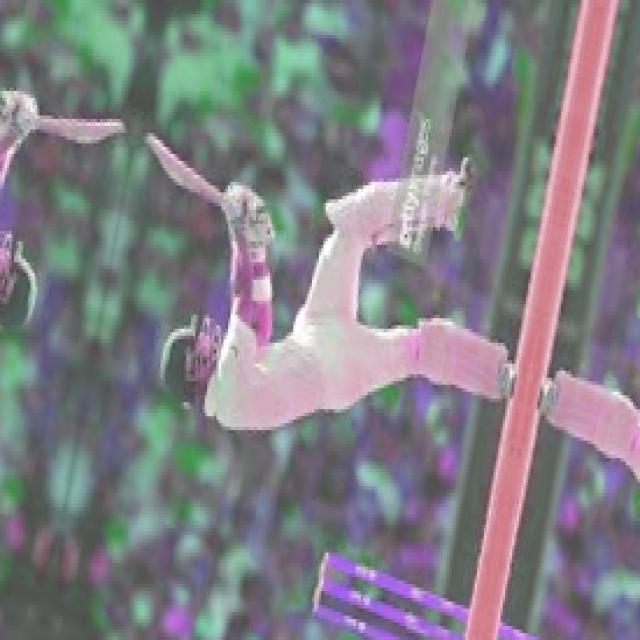toe: (143, 130, 170, 158)
